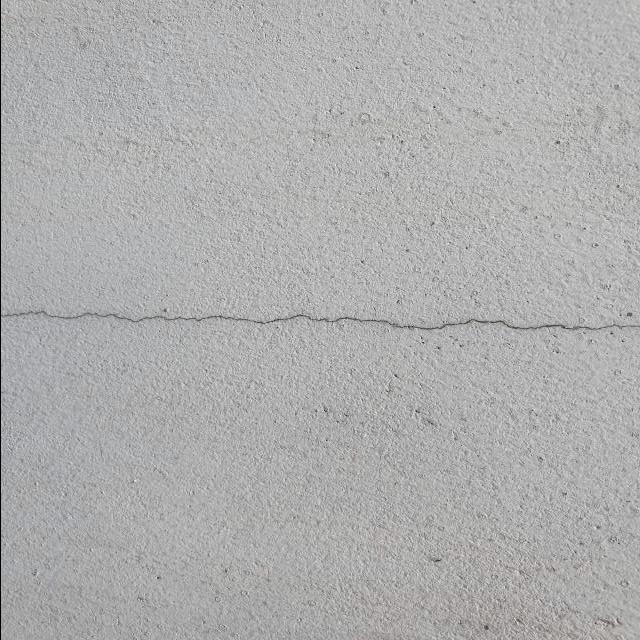SurfaceCrack: (1, 259, 639, 378)
